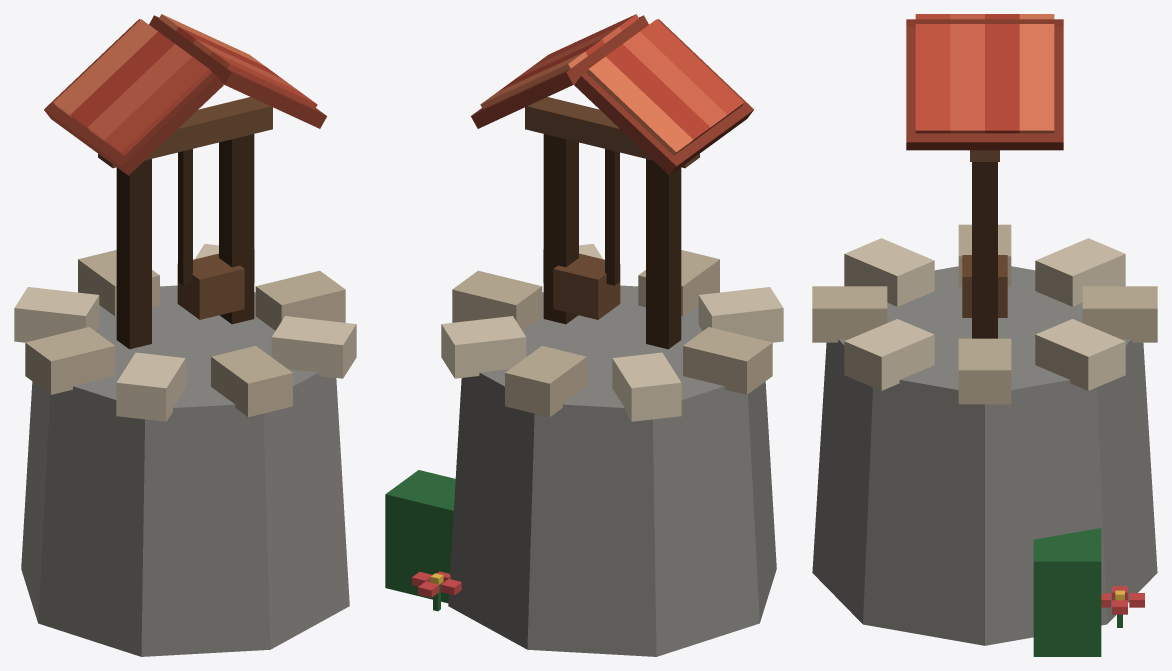
File: vn_deco_stone_well.glb
3 views of the same model, side by side, from view 1: azimuth 30°, elevation 25°; view 2: azimuth 150°, elevation 25°; view 3: azimuth 270°, elevation 25° (orthographic).
Parts seen in each view (by area): view 1: well_stone, well_wood; view 2: well_stone, well_wood; view 3: well_stone, well_wood.
Boxes of the visible parts, x1,y1,x2,y2 form: well_stone: (14, 243, 356, 656); well_wood: (44, 14, 326, 349); well_stone: (441, 243, 783, 656); well_wood: (385, 14, 753, 611); well_stone: (812, 224, 1157, 645); well_wood: (906, 14, 1144, 656).
Bounding box in the file's own units: 0.99 × 1.63 × 0.92.
